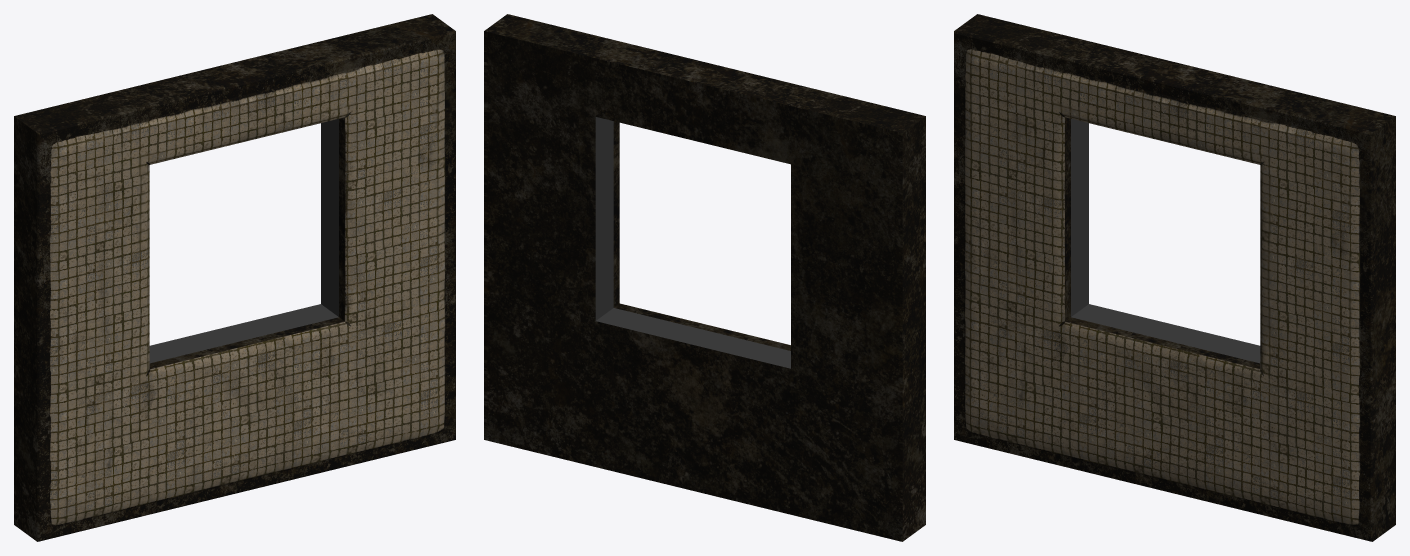
The model's file is SM_WallWindowNarrow02.FBX.
The picture shows the model from 3 angles, left to right: view 1: azimuth 30°, elevation 25°; view 2: azimuth 150°, elevation 25°; view 3: azimuth 330°, elevation 25°; orthographic projection.
Parts seen in each view (by area): view 1: SM_WallWindowNarrow02_LOD0; view 2: SM_WallWindowNarrow02_LOD0; view 3: SM_WallWindowNarrow02_LOD0.
Boxes of the visible parts, <box> form: SM_WallWindowNarrow02_LOD0: <box>14,14,455,541</box>; SM_WallWindowNarrow02_LOD0: <box>484,14,925,541</box>; SM_WallWindowNarrow02_LOD0: <box>954,14,1395,541</box>.
Bounding box in the file's own units: 300 × 31.79 × 280.
